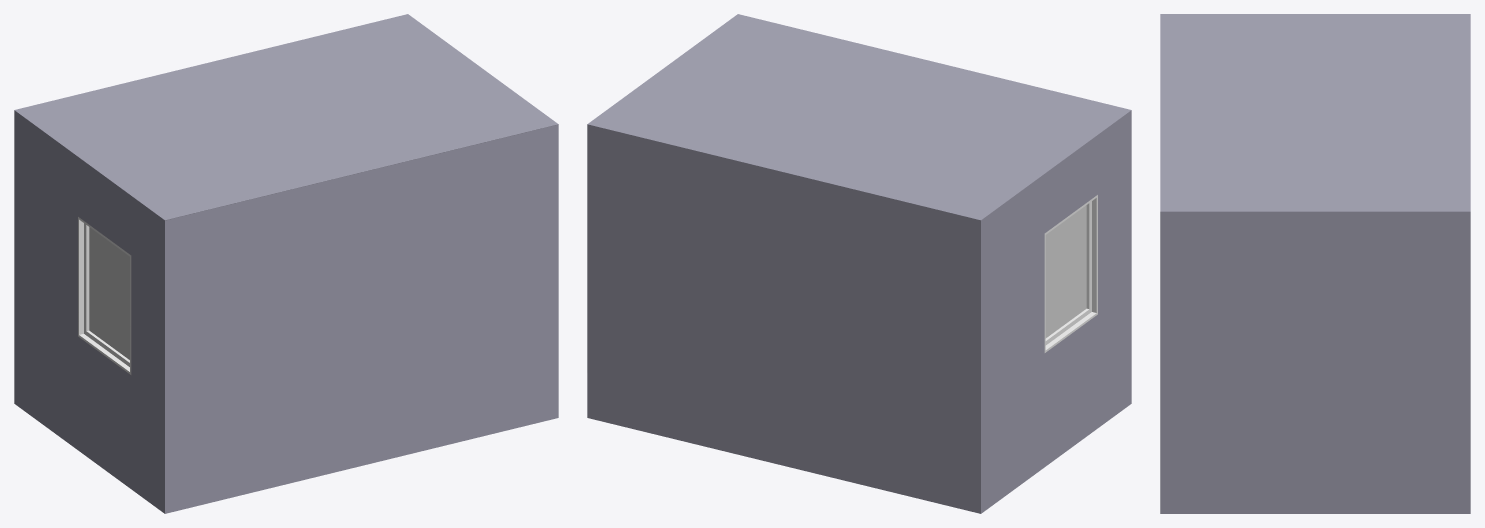
Rendered from room.fbx.
3 views of the same model, side by side, from view 1: azimuth 30°, elevation 25°; view 2: azimuth 150°, elevation 25°; view 3: azimuth 270°, elevation 25° (orthographic). The views are drawn at different scales.
Visible parts, largest first — view 1: Shell, Inner, Window; view 2: Shell, Inner, Window; view 3: Shell.
Boxes of the visible parts, x1,y1,x2,y2 form: Shell: (14, 14, 558, 513); Inner: (84, 223, 129, 366); Window: (78, 217, 131, 374); Shell: (587, 14, 1131, 513); Inner: (1045, 201, 1091, 345); Window: (1044, 195, 1097, 352); Shell: (1160, 14, 1470, 513).
Size of the model in its own units: 379 by 270 by 251.
